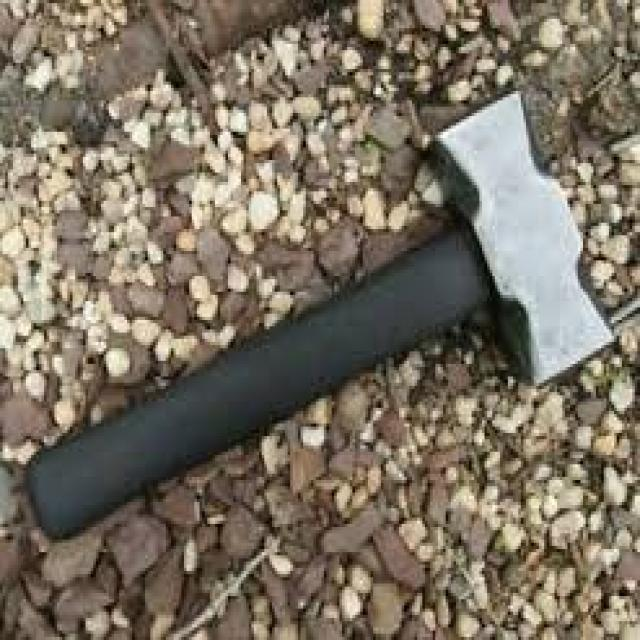hammer: (18, 84, 625, 550)
